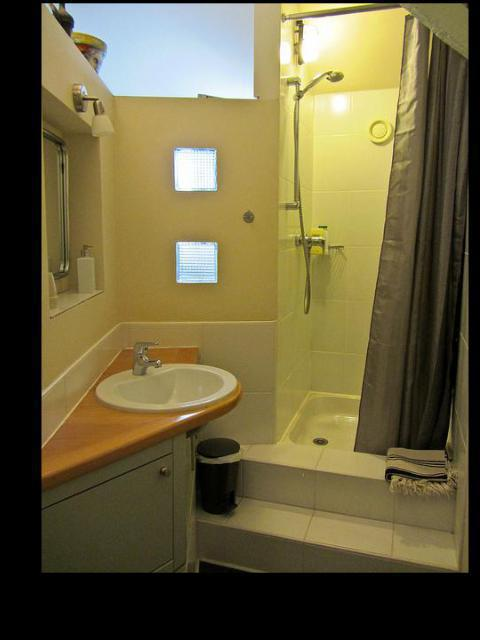Bote de Basura: (191, 435, 241, 517)
Ducha: (277, 14, 463, 510)
Lavamanos: (97, 337, 241, 421)
